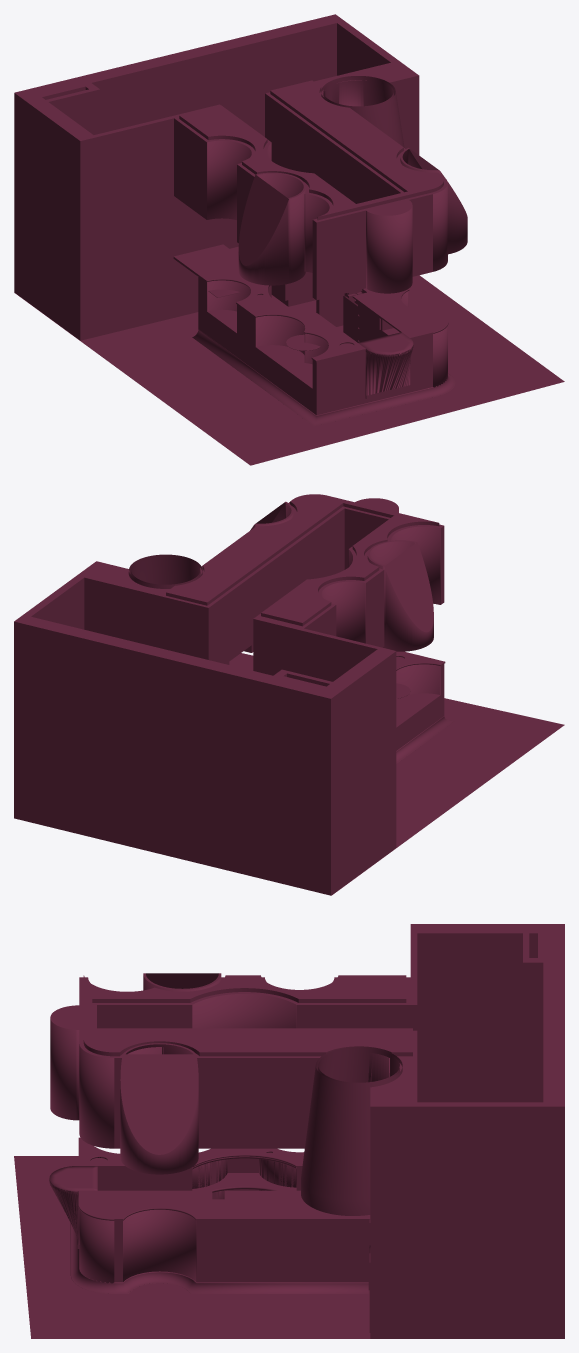
Rendered from asset.glb.
3 views of the same model, one above another, from view 1: azimuth 30°, elevation 25°; view 2: azimuth 150°, elevation 25°; view 3: azimuth 270°, elevation 25° (orthographic). The views are drawn at different scales.
Visible parts, largest first — view 1: MC_Structure, G-__556320, Sketchup, G-__556257, G-__556347, G-__556275, G-__556311, G-__556356, G-__556365, G-__556284, G-__556302, G-__556338 (+1 smaller); view 2: MC_Structure, G-__556320, Sketchup, G-__556275, G-__556257, G-__556338, G-__556347, G-__556365, G-__556356, G-__556311, G-__556266; view 3: MC_Structure, G-__556320, Sketchup, G-__556347, G-__556365, G-__556266, G-__556311, G-__556302, G-__556356, G-__556284, G-__556338, G-__556275 (+1 smaller).
Part boxes in pixels (box(x1,y1,x2,y2)): MC_Structure: box(14, 14, 419, 340); G-__556320: box(174, 80, 447, 300); Sketchup: box(14, 200, 564, 465); G-__556257: box(94, 104, 222, 336); G-__556347: box(198, 276, 447, 415); G-__556275: box(238, 172, 305, 285); G-__556311: box(173, 244, 448, 362); G-__556356: box(192, 329, 455, 426); G-__556365: box(321, 76, 404, 147); G-__556284: box(358, 332, 413, 398); G-__556302: box(258, 272, 399, 347); G-__556338: box(314, 62, 411, 149); MC_Structure: box(14, 561, 396, 895); G-__556320: box(161, 494, 444, 664); Sketchup: box(229, 498, 564, 895); G-__556275: box(367, 540, 433, 651); G-__556257: box(253, 617, 379, 681); G-__556338: box(84, 563, 169, 648); G-__556347: box(396, 664, 444, 750); G-__556365: box(128, 554, 202, 588); G-__556356: box(396, 716, 453, 763); G-__556311: box(246, 651, 445, 670); G-__556266: box(250, 501, 293, 530); MC_Structure: box(370, 924, 564, 1338); G-__556320: box(79, 975, 417, 1148); Sketchup: box(14, 1005, 370, 1338); G-__556347: box(79, 1159, 369, 1290); G-__556365: box(301, 1047, 402, 1215); G-__556266: box(120, 1043, 198, 1174); G-__556311: box(78, 1137, 370, 1220); G-__556302: box(90, 1152, 302, 1199); G-__556356: box(70, 1223, 368, 1293); G-__556284: box(49, 1166, 97, 1248); G-__556338: box(370, 1058, 417, 1102); G-__556275: box(143, 973, 221, 991).
Bounding box in the file's own units: 4.98 × 3 × 6.34.
